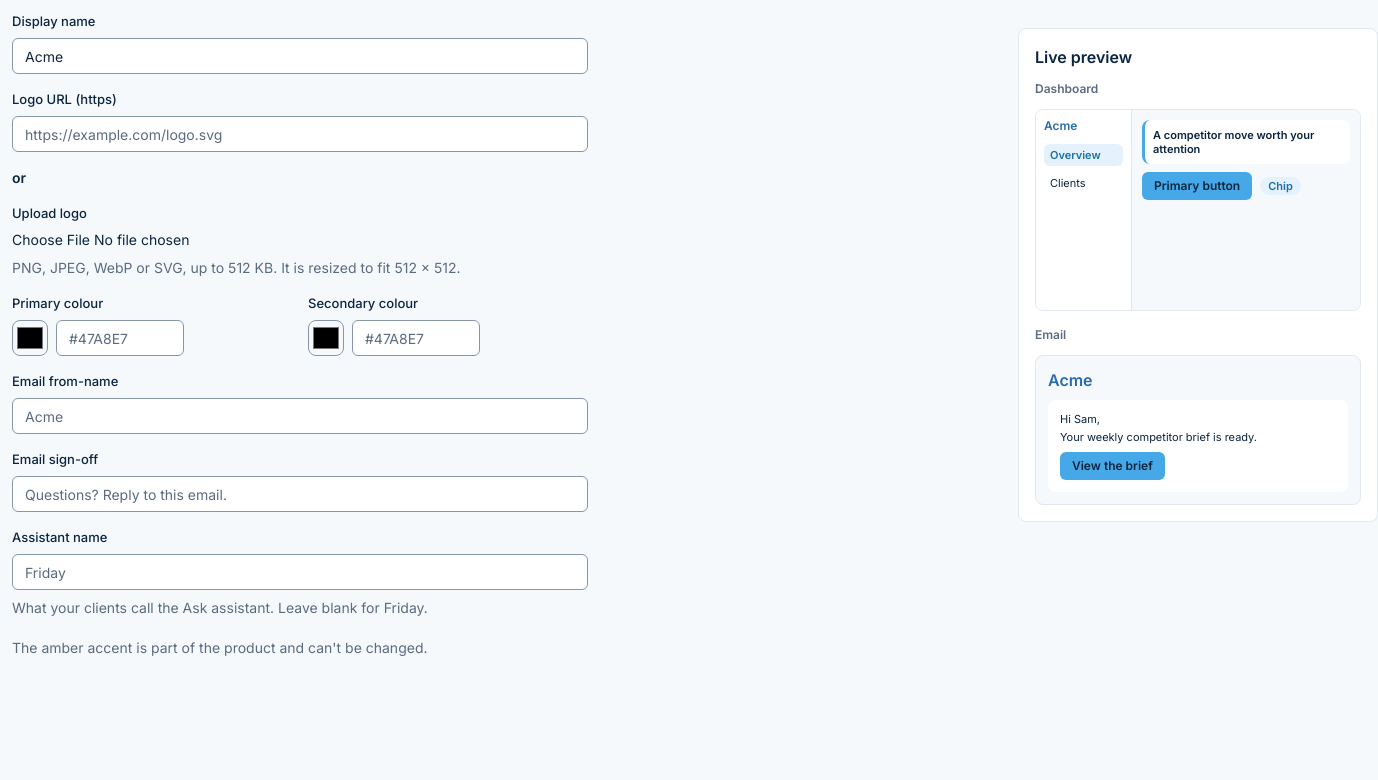
Test: BrandingEditor › settings mode: Save changes appears in the save bar once something changes; Discard restores
This screenshot has width=1378, height=780.
Expected: the button "Save changes" is not shown
Type "Acme 2" into the field labelled "Display name" at (300, 56), box x1=12 y1=38 x2=588 y2=74
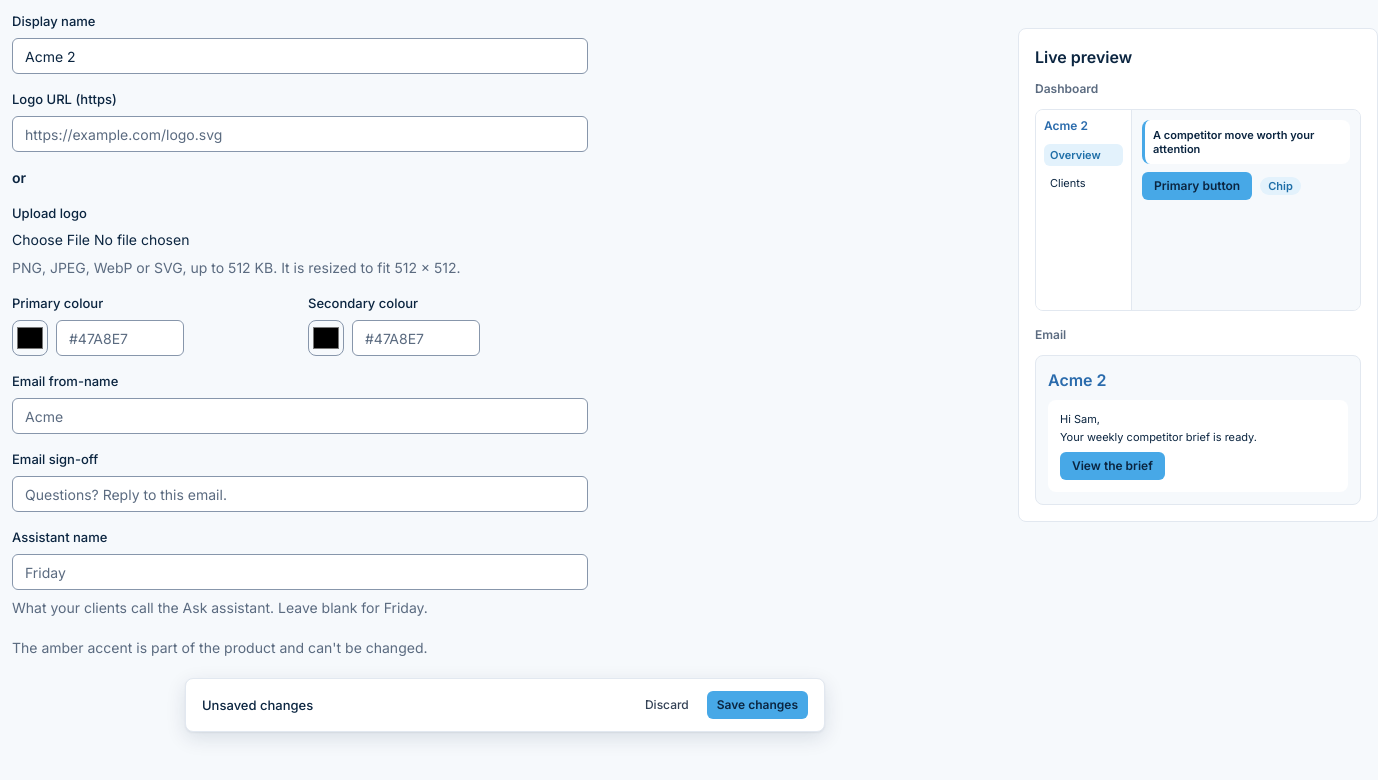
Now the button "Save changes" is shown, box x1=707 y1=691 x2=808 y2=719
Click the button "Discard" at (667, 705), box x1=635 y1=691 x2=699 y2=719
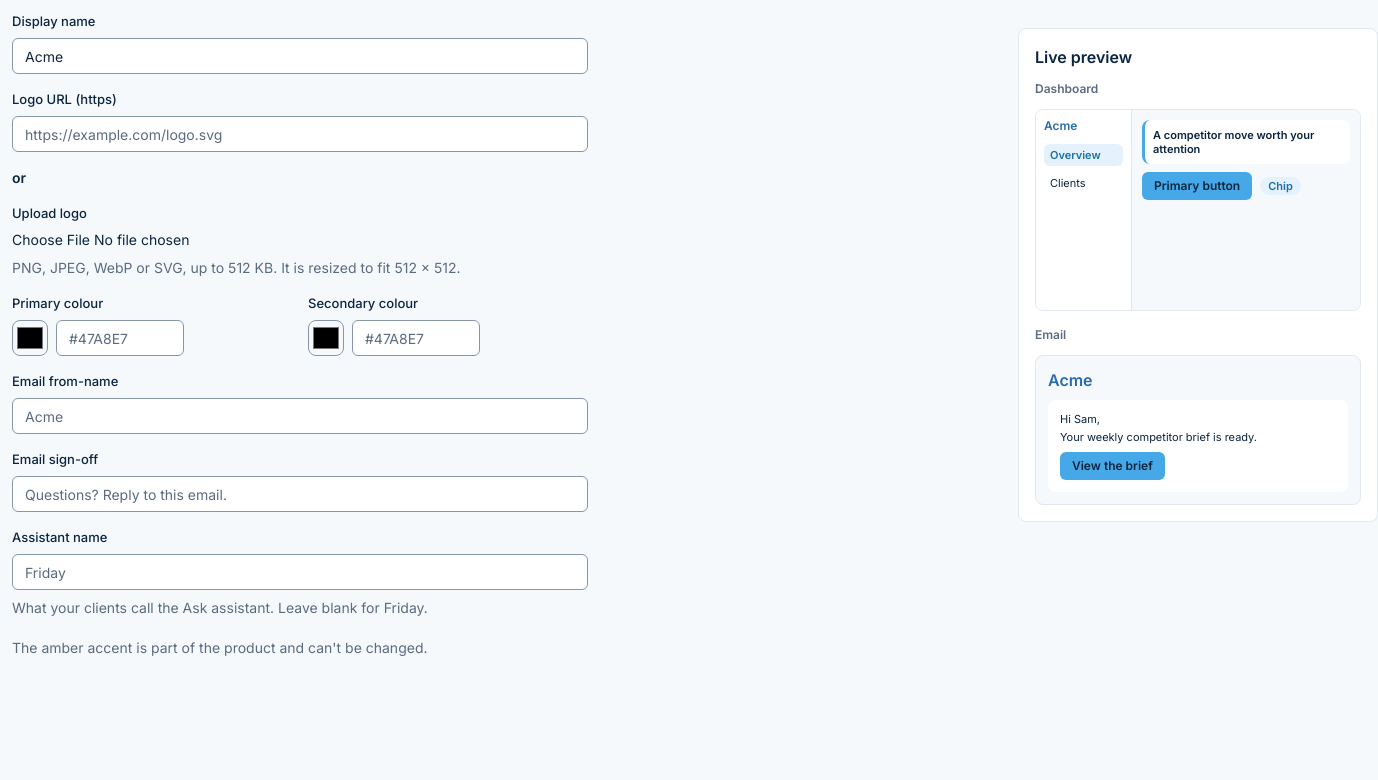
Now the field labelled "Display name" holds "Acme", box x1=12 y1=38 x2=588 y2=74
Now the button "Save changes" is gone
